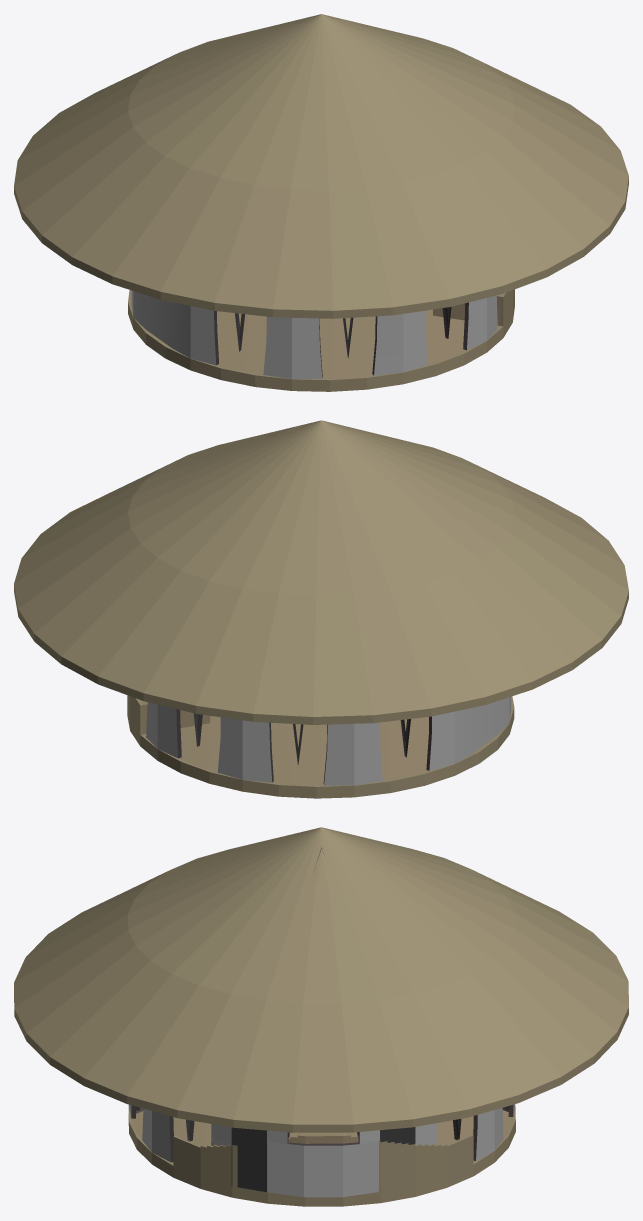
The model's file is Tower_Tall_KingChamber.fbx.
3 views of the same model, one above another, from view 1: azimuth 30°, elevation 25°; view 2: azimuth 150°, elevation 25°; view 3: azimuth 270°, elevation 25° (orthographic).
Parts seen in each view (by area): view 1: floor.014, floor.006, floor.010; view 2: floor.014, floor.006, floor.010; view 3: floor.014, floor.006, floor.011, floor.010.
Part boxes in pixels (x1=…): floor.014: x1=14, y1=14, x2=628, y2=318; floor.006: x1=128, y1=289, x2=514, y2=391; floor.010: x1=131, y1=290, x2=497, y2=379; floor.014: x1=14, y1=420, x2=628, y2=724; floor.006: x1=127, y1=695, x2=514, y2=798; floor.010: x1=146, y1=697, x2=511, y2=785; floor.014: x1=14, y1=827, x2=628, y2=1132; floor.006: x1=128, y1=1106, x2=515, y2=1206; floor.011: x1=231, y1=1127, x2=414, y2=1197; floor.010: x1=128, y1=1104, x2=515, y2=1162.
Size of the model in its own units: 14239 by 7600 by 14239.
